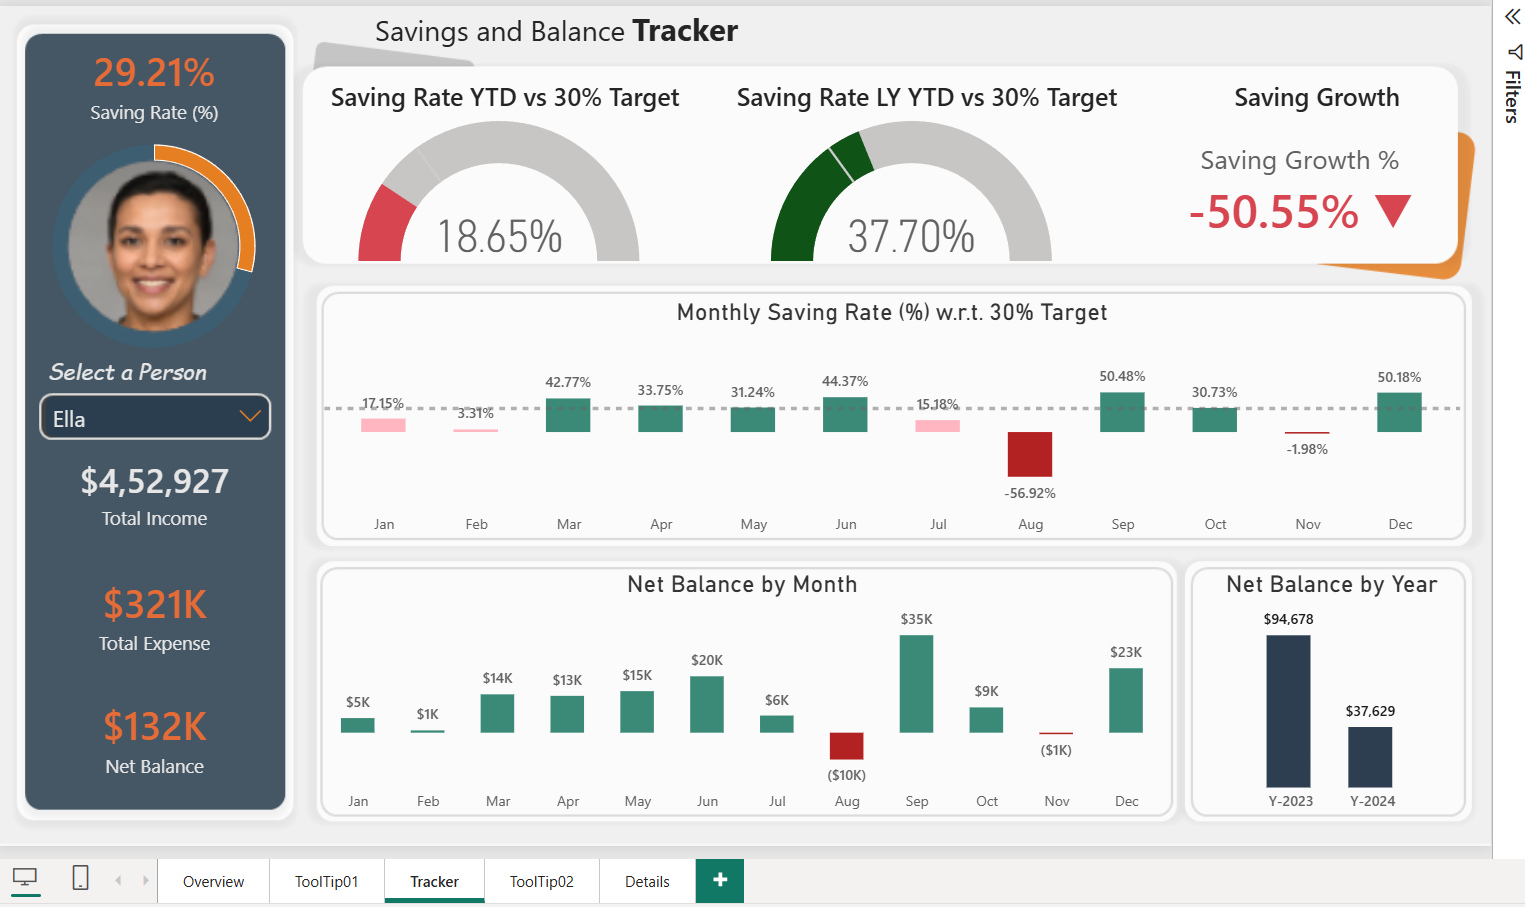

The dashboard page shown, as its layout file describes it:
{"tool":"powerbi","page":{"name":"Tracker","canvas":[1280,720],"ordinal":2},"visuals":[{"type":"donutChart","fields":{"Y":["1DAX_Calaculation.Saving Rate (%)","1DAX_Calaculation.Remainder"]},"box":[9.1,81.5,250,250],"z":0},{"type":"gauge","fields":{"Y":["1DAX_Calaculation.Saving Rate (YTD)"]},"box":[289,98.9,280.1,120.4],"z":1000},{"type":"gauge","fields":{"Y":["1DAX_Calaculation.Saving Rate (Last Year YTD)"]},"box":[642.5,98.9,280.1,120.4],"z":2000},{"type":"slicer","fields":{"Values":["Img.Name"]},"box":[31.7,329.5,204,46.9],"z":3000},{"type":"clusteredColumnChart","title":"Monthly Saving Rate (%) w.r.t. 30% Target","fields":{"Category":["Date.Month"],"Y":["1DAX_Calaculation.Saving Rate (%)"]},"box":[279.6,249.4,973.8,207.9],"z":4000},{"type":"clusteredColumnChart","title":"Net Balance by Month","fields":{"Category":["Date.Month"],"Y":["1DAX_Calaculation.Net Balance"]},"box":[269.9,482.9,736.3,211.6],"z":5000},{"type":"cardVisual","fields":{"Data":["1DAX_Calaculation.Saving Growth %"]},"box":[991,98.9,250,120],"z":6000},{"type":"clusteredColumnChart","title":"Net Balance by Year","fields":{"Category":["Date.Year2"],"Y":["1DAX_Calaculation.Net Balance"]},"box":[1024,482.9,238.3,211.6],"z":7000},{"type":"textbox","box":[32,69,204,150],"z":8000},{"type":"textbox","box":[280.1,52,310,41.8],"z":9000},{"type":"textbox","box":[626.1,52,341,41.8],"z":10000},{"type":"textbox","box":[1053.1,52,155,41.8],"z":11000},{"type":"image","box":[32.1,129.2,204,154.6],"z":12000},{"type":"textbox","box":[43.1,289,162.2,41.8],"z":13000},{"type":"cardVisual","fields":{"Data":["1DAX_Calaculation.Saving Rate (%)"]},"box":[31.7,29.1,204,78.6],"z":14000},{"type":"cardVisual","fields":{"Data":["1DAX_Calaculation.Total Income"]},"box":[32.1,378.9,204,78.6],"z":15000},{"type":"cardVisual","fields":{"Data":["1DAX_Calaculation.Net Balance"]},"box":[32.1,589.3,204,78.6],"z":16000},{"type":"cardVisual","fields":{"Data":["1DAX_Calaculation.Total Expense"]},"box":[32.1,484.1,204,78.6],"z":17000},{"type":"textbox","box":[319.1,1,319.1,38.5],"z":18000}]}

Visuals, with their boxes on the page's 1280x720 design canvas (x1, y1, x2, y2). These are canvas units, not pixel positions in the 1525x907 screenshot, which may show the page scaled, cropped or inside an application window:
donutChart - 1DAX_Calaculation.Saving Rate (%) x 1DAX_Calaculation.Remainder: [x1=9, y1=82, x2=259, y2=332]
gauge - 1DAX_Calaculation.Saving Rate (YTD): [x1=289, y1=99, x2=569, y2=219]
gauge - 1DAX_Calaculation.Saving Rate (Last Year YTD): [x1=642, y1=99, x2=923, y2=219]
slicer - Img.Name: [x1=32, y1=330, x2=236, y2=376]
"Monthly Saving Rate (%) w.r.t. 30% Target" clusteredColumnChart: [x1=280, y1=249, x2=1253, y2=457]
"Net Balance by Month" clusteredColumnChart: [x1=270, y1=483, x2=1006, y2=694]
cardVisual - 1DAX_Calaculation.Saving Growth %: [x1=991, y1=99, x2=1241, y2=219]
"Net Balance by Year" clusteredColumnChart: [x1=1024, y1=483, x2=1262, y2=694]
textbox: [x1=32, y1=69, x2=236, y2=219]
textbox: [x1=280, y1=52, x2=590, y2=94]
textbox: [x1=626, y1=52, x2=967, y2=94]
textbox: [x1=1053, y1=52, x2=1208, y2=94]
image: [x1=32, y1=129, x2=236, y2=284]
textbox: [x1=43, y1=289, x2=205, y2=331]
cardVisual - 1DAX_Calaculation.Saving Rate (%): [x1=32, y1=29, x2=236, y2=108]
cardVisual - 1DAX_Calaculation.Total Income: [x1=32, y1=379, x2=236, y2=458]
cardVisual - 1DAX_Calaculation.Net Balance: [x1=32, y1=589, x2=236, y2=668]
cardVisual - 1DAX_Calaculation.Total Expense: [x1=32, y1=484, x2=236, y2=563]
textbox: [x1=319, y1=1, x2=638, y2=40]
